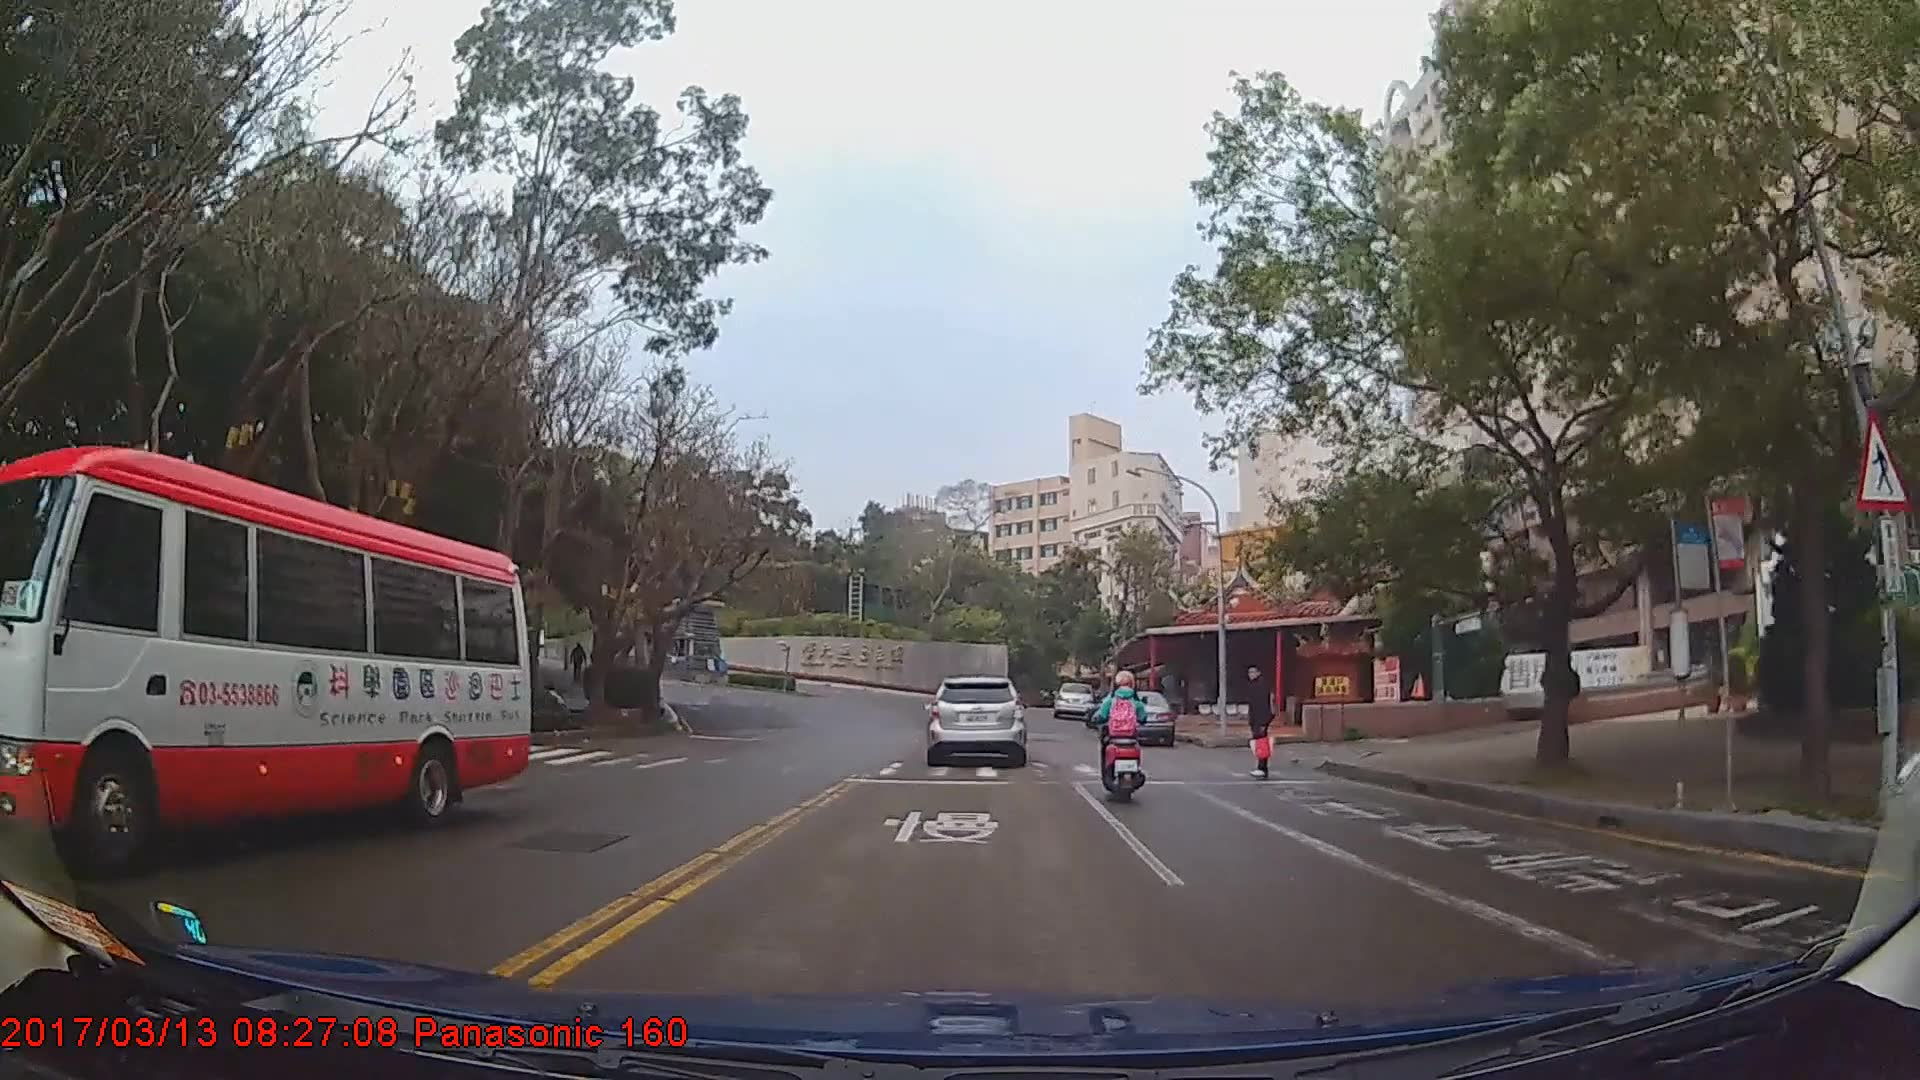pedestrian: (1244, 659, 1282, 780)
rider: (1091, 669, 1151, 801)
vehicle: (0, 443, 533, 885), (925, 673, 1028, 765), (1108, 690, 1176, 750), (1055, 680, 1095, 718)
